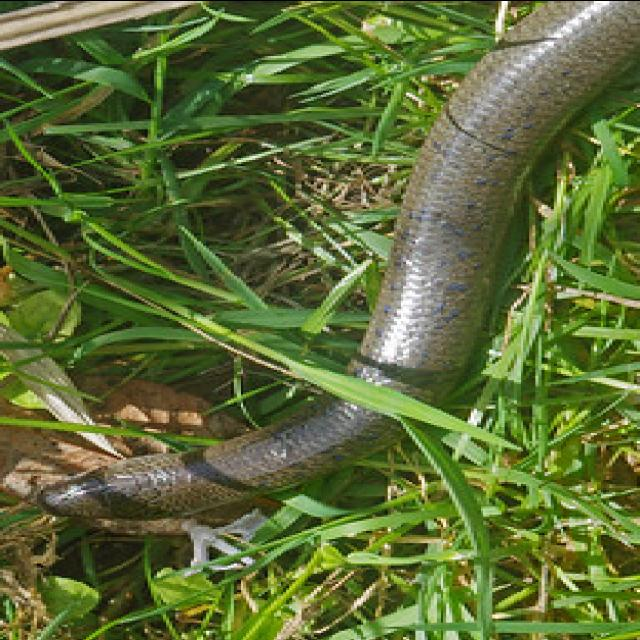Snake: (6, 0, 640, 558)
